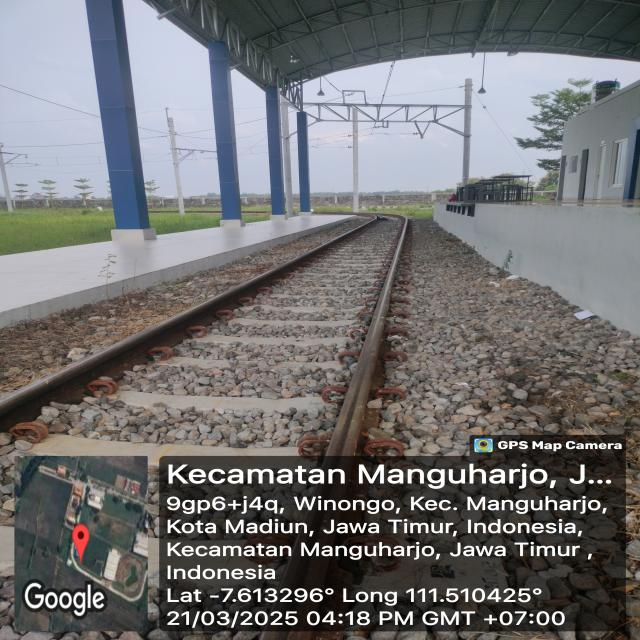rail-detection: (0, 228, 362, 430), (326, 215, 408, 456)
